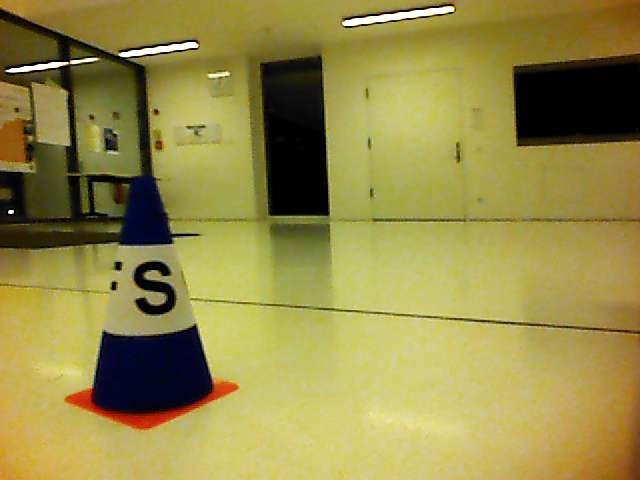bluecone: (90, 175, 215, 416)
